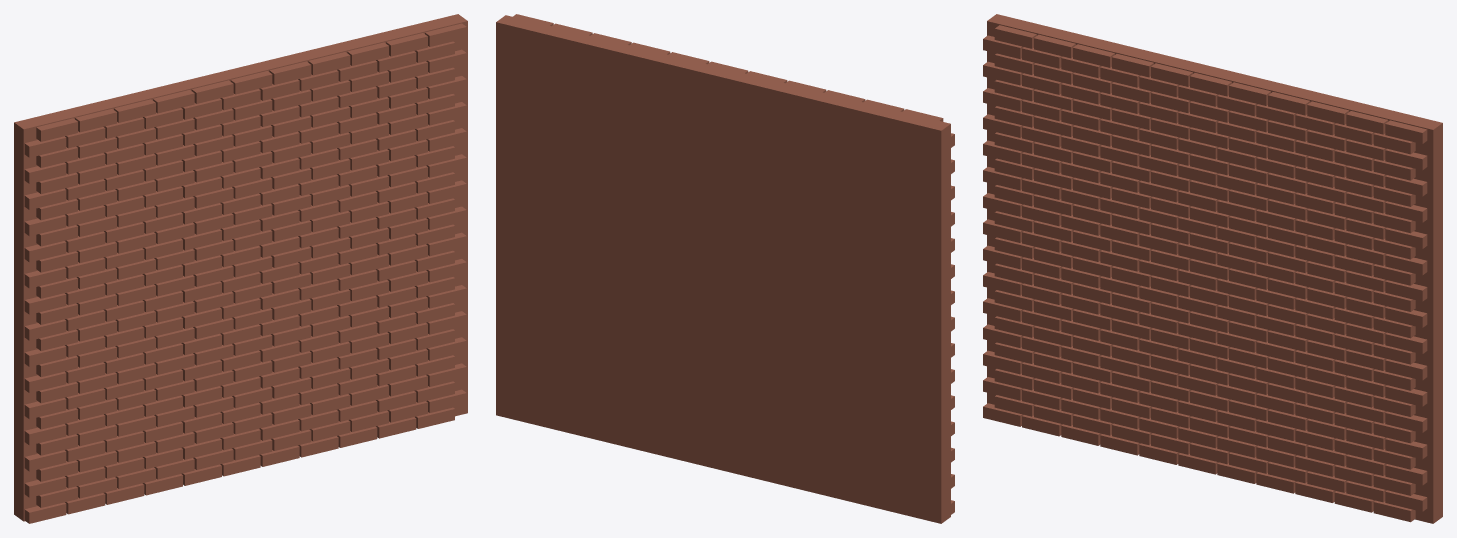
3 views of the same model, side by side, from view 1: azimuth 30°, elevation 25°; view 2: azimuth 150°, elevation 25°; view 3: azimuth 330°, elevation 25° (orthographic).
Visible parts, largest first — view 1: QH-A0029_V01_geometry; view 2: QH-A0029_V01_geometry; view 3: QH-A0029_V01_geometry.
Part boxes in pixels (<box>): QH-A0029_V01_geometry: <box>14,14,467,523</box>; QH-A0029_V01_geometry: <box>496,14,954,523</box>; QH-A0029_V01_geometry: <box>983,14,1442,523</box>.
Bounding box in the file's own units: 3.2 × 2.7 × 0.18.
